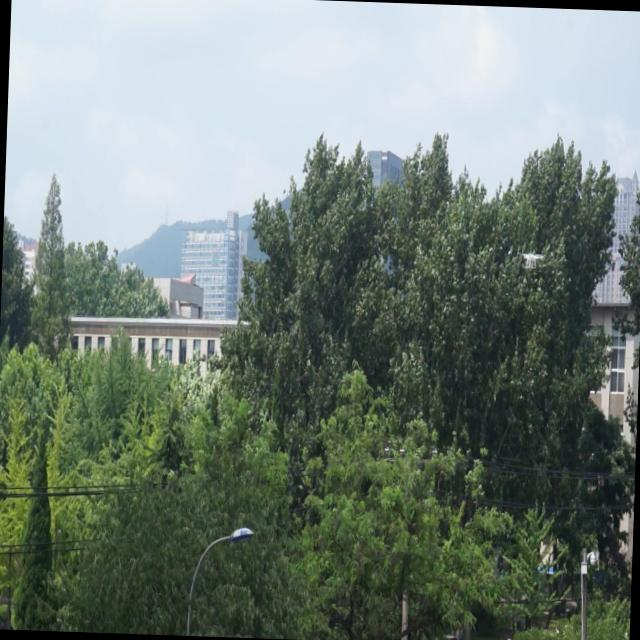drone: (516, 246, 546, 274)
